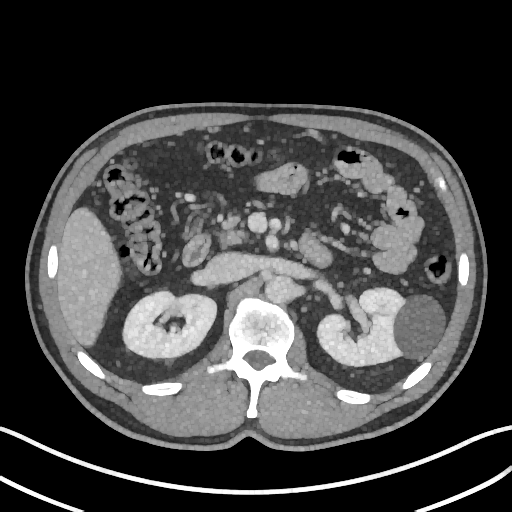Lesion: (389, 290, 449, 362)
